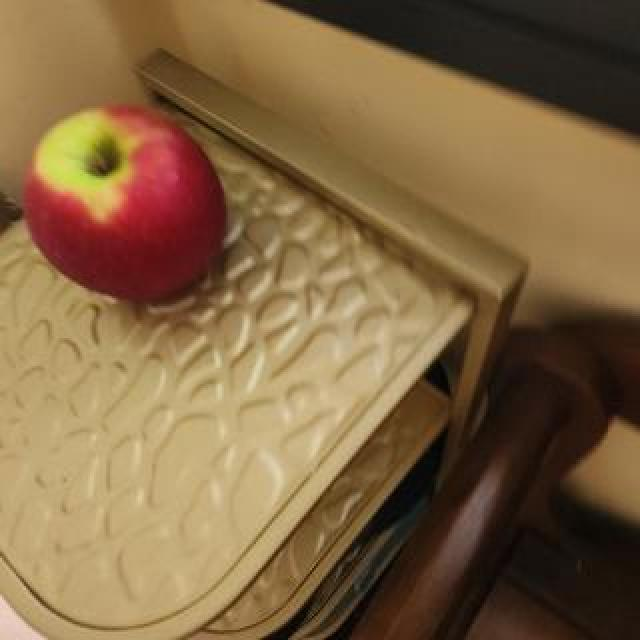Fresh Apple: (22, 106, 224, 316)
